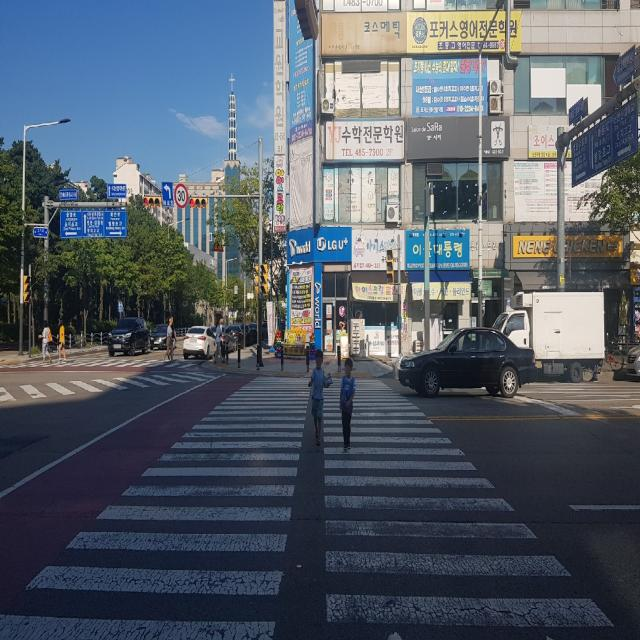횡단보도: (0, 376, 616, 640), (29, 358, 182, 372)
